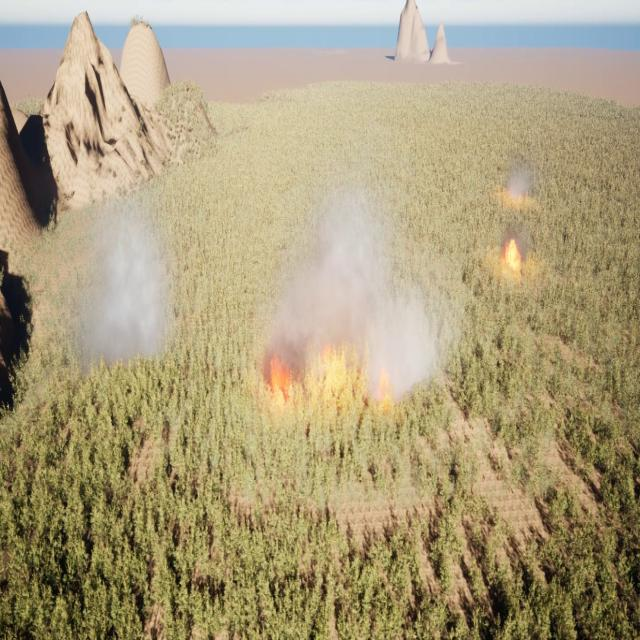fire: (312, 339, 369, 387), (264, 350, 302, 399), (504, 240, 523, 274), (377, 366, 392, 401)
smoke: (256, 157, 458, 396), (65, 195, 184, 368), (504, 167, 528, 206), (504, 233, 532, 263)
